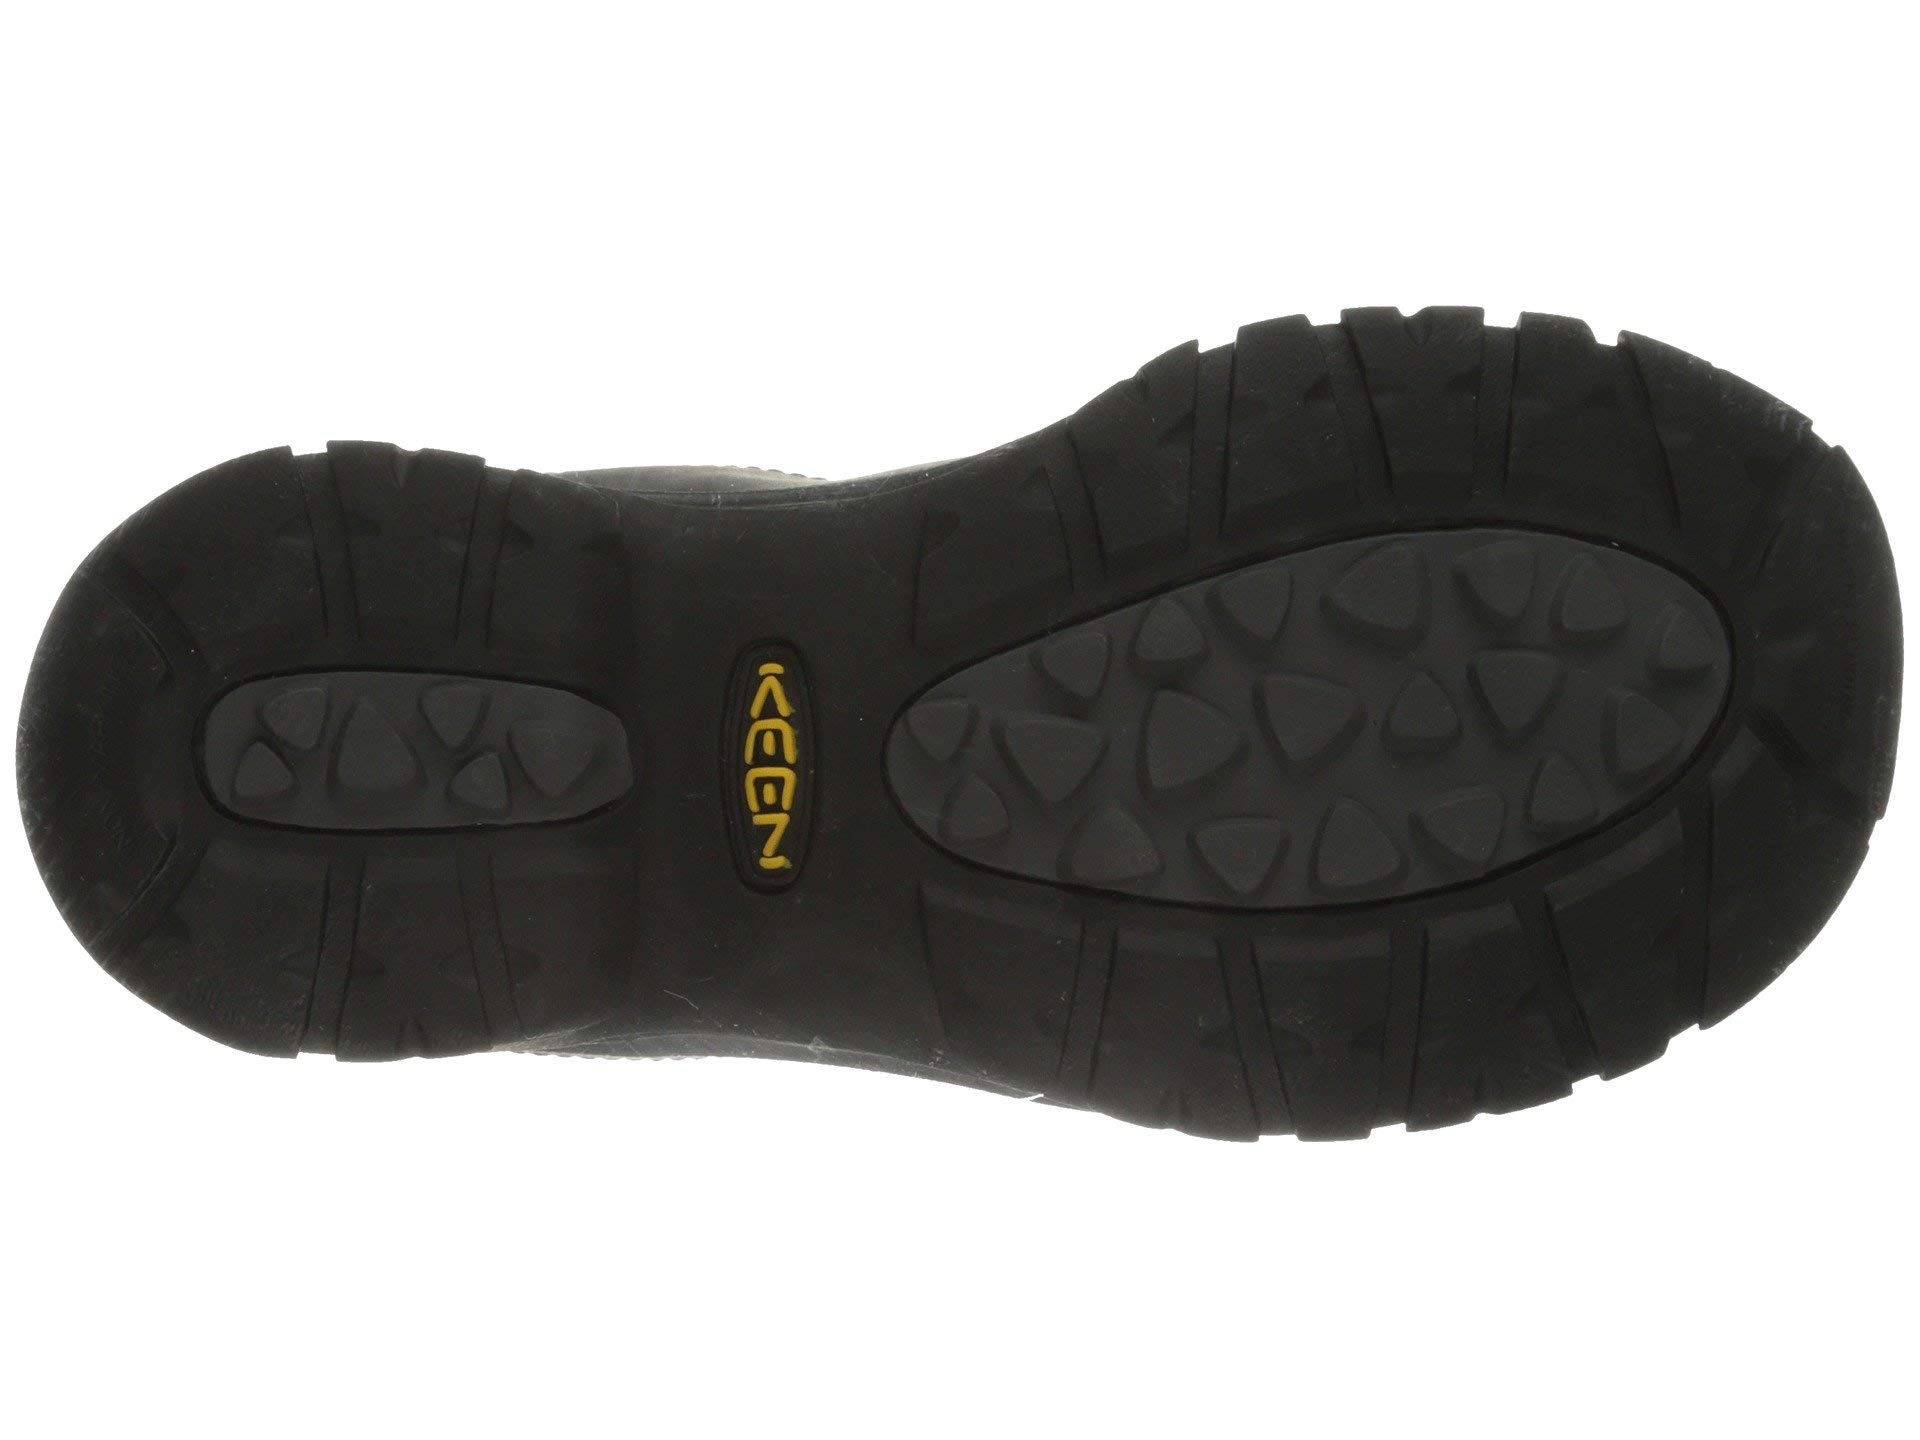exclude: (523, 427, 865, 492)
line: (1011, 604, 1684, 861), (676, 596, 856, 914)
quad: (210, 669, 655, 1057), (676, 596, 856, 914)
text: (676, 596, 856, 914)
triangle: (1011, 604, 1684, 861), (210, 669, 655, 1057)
